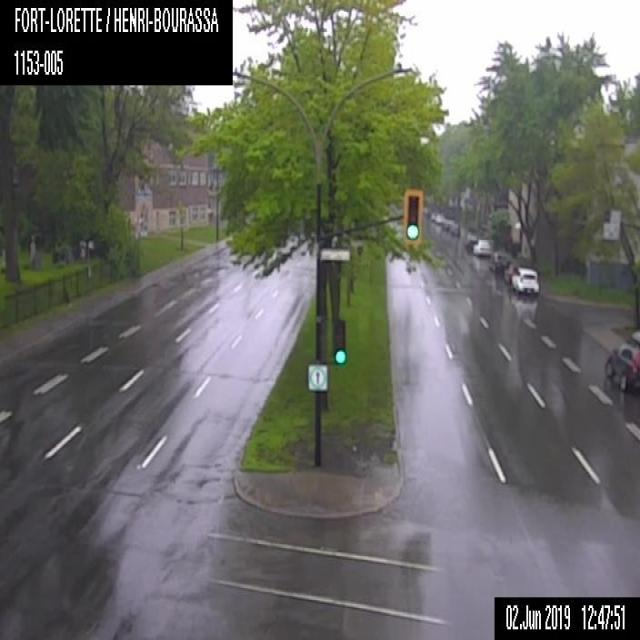vehicle: (602, 340, 639, 399), (511, 266, 538, 297), (489, 251, 509, 273), (473, 237, 493, 254), (464, 233, 476, 250), (449, 222, 460, 236)
